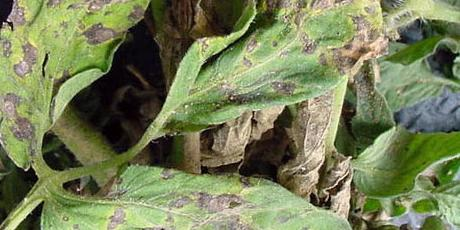Tomato leaf late blight: (0, 0, 200, 176), (155, 0, 377, 139), (36, 165, 363, 230)
